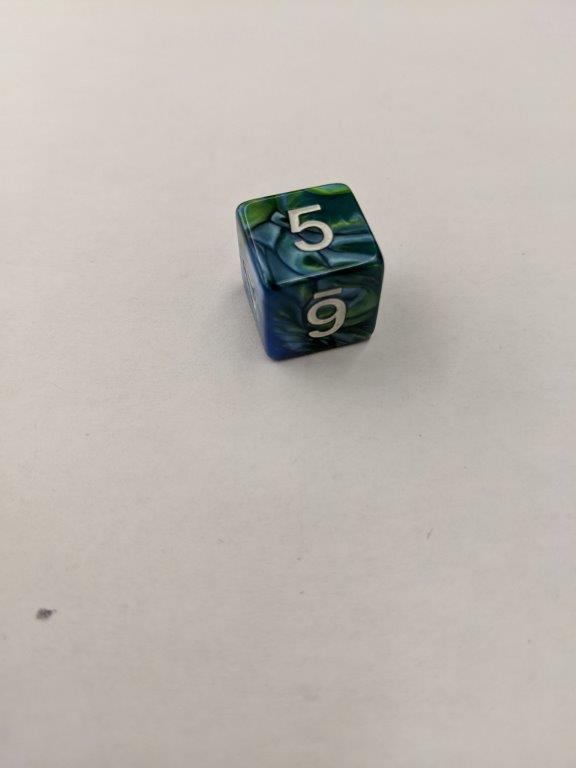d6-5: (236, 180, 386, 362)
